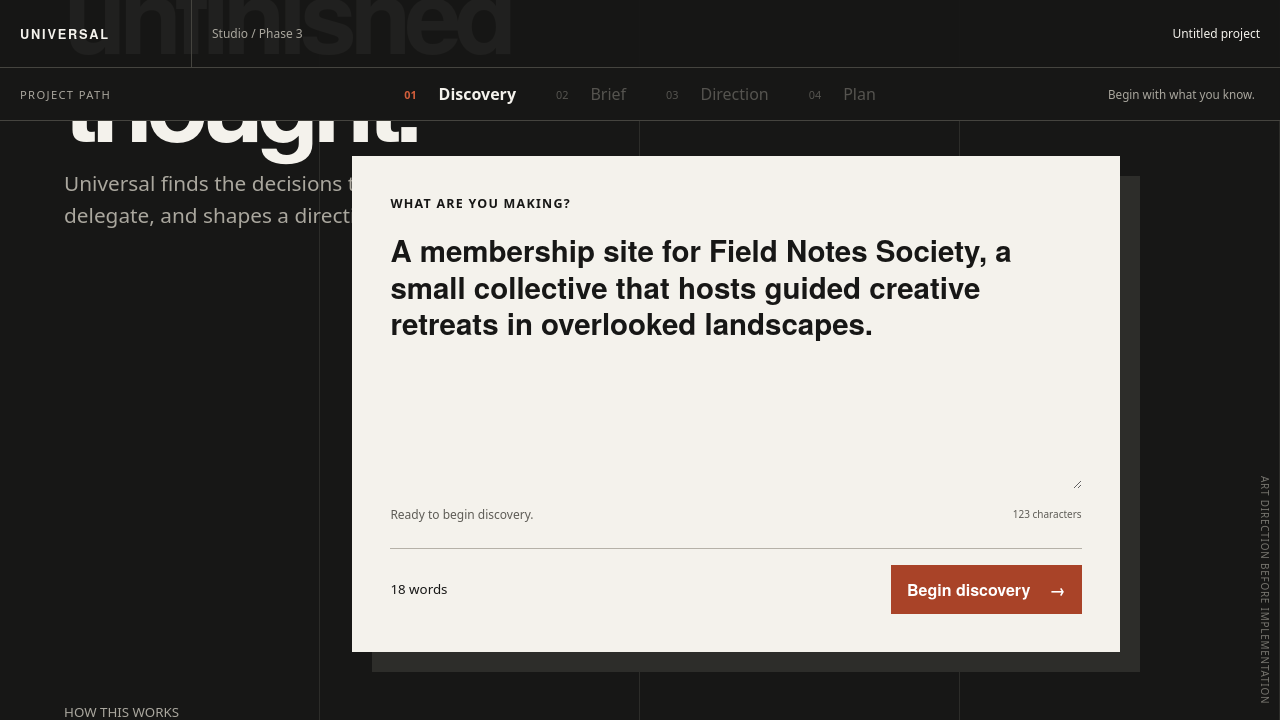
Test: stage 2: discovery answer modes and provenance › the compiled brief displays each decision under its authorship
(page scrolled)
Replace the text in the text box labelled "What are you making?" with "A membership site for a small collective that runs guided creative retreats in overlooked coastal towns.": (736, 361) 390,232 -> 1082,489
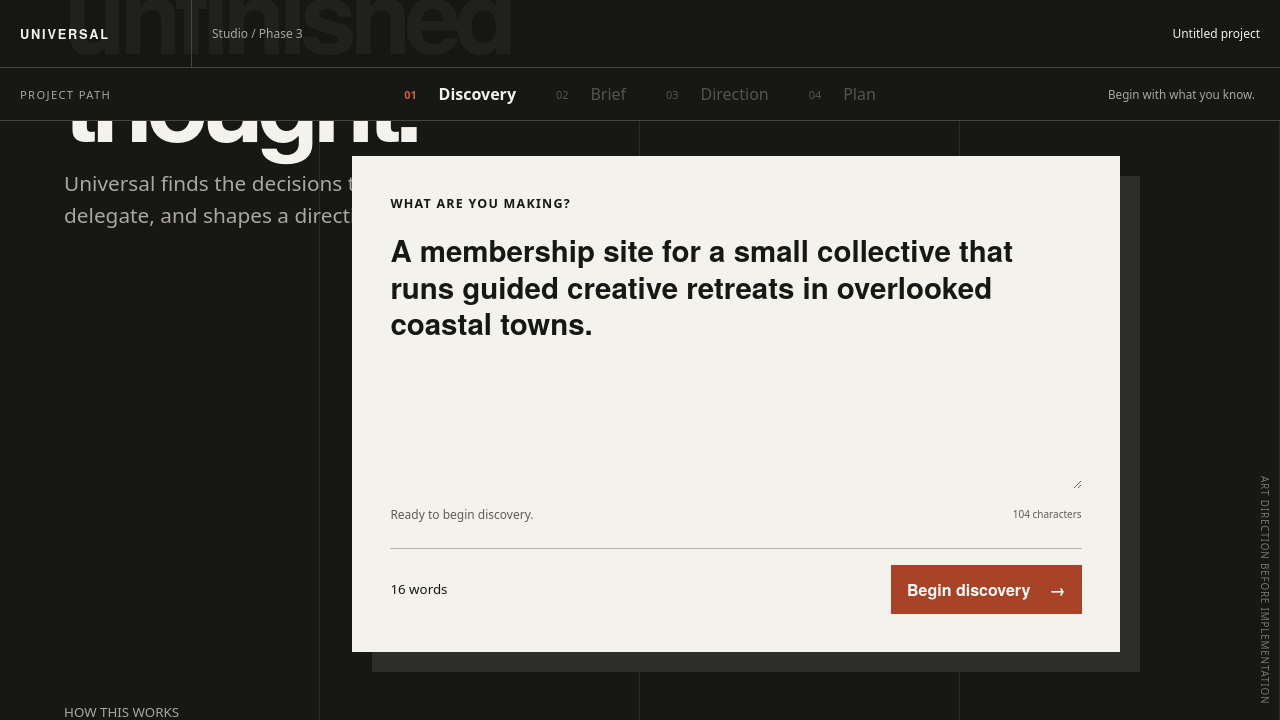
Click the button "Begin discovery →": (986, 589) 891,565 -> 1082,614
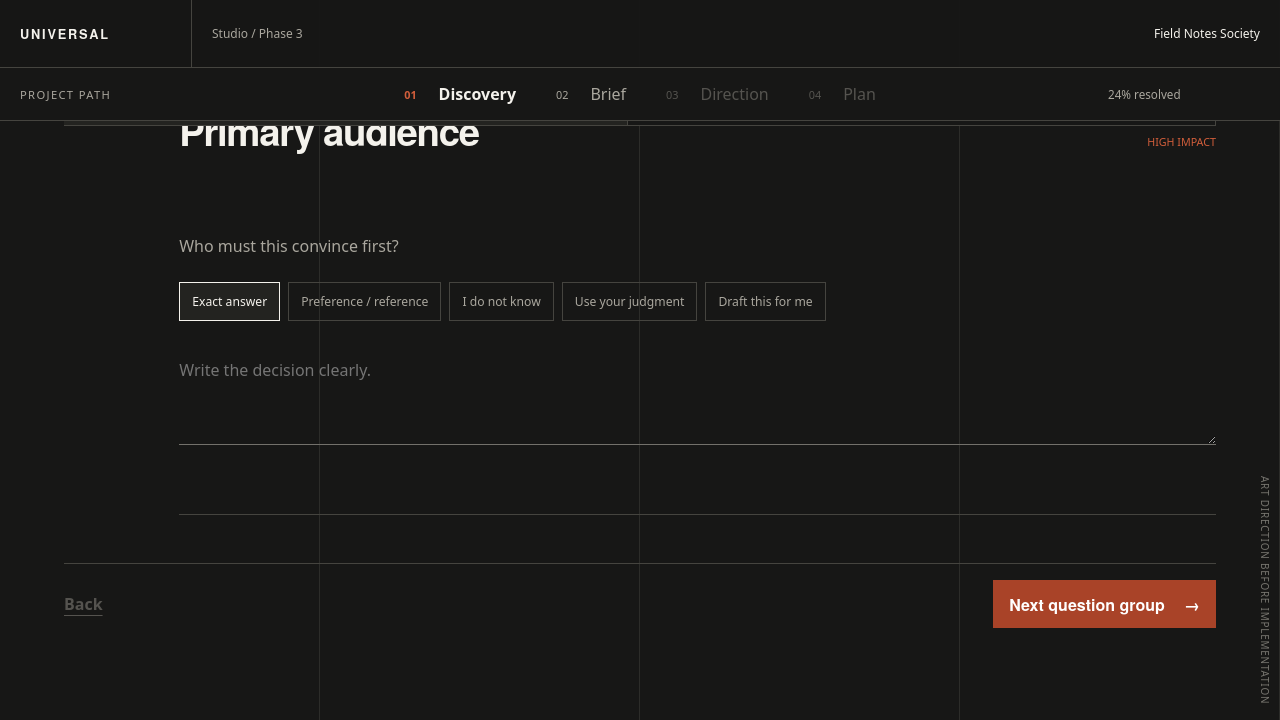
Click the button "Next question group →": (1105, 604) 993,580 -> 1216,628
(page scrolled)
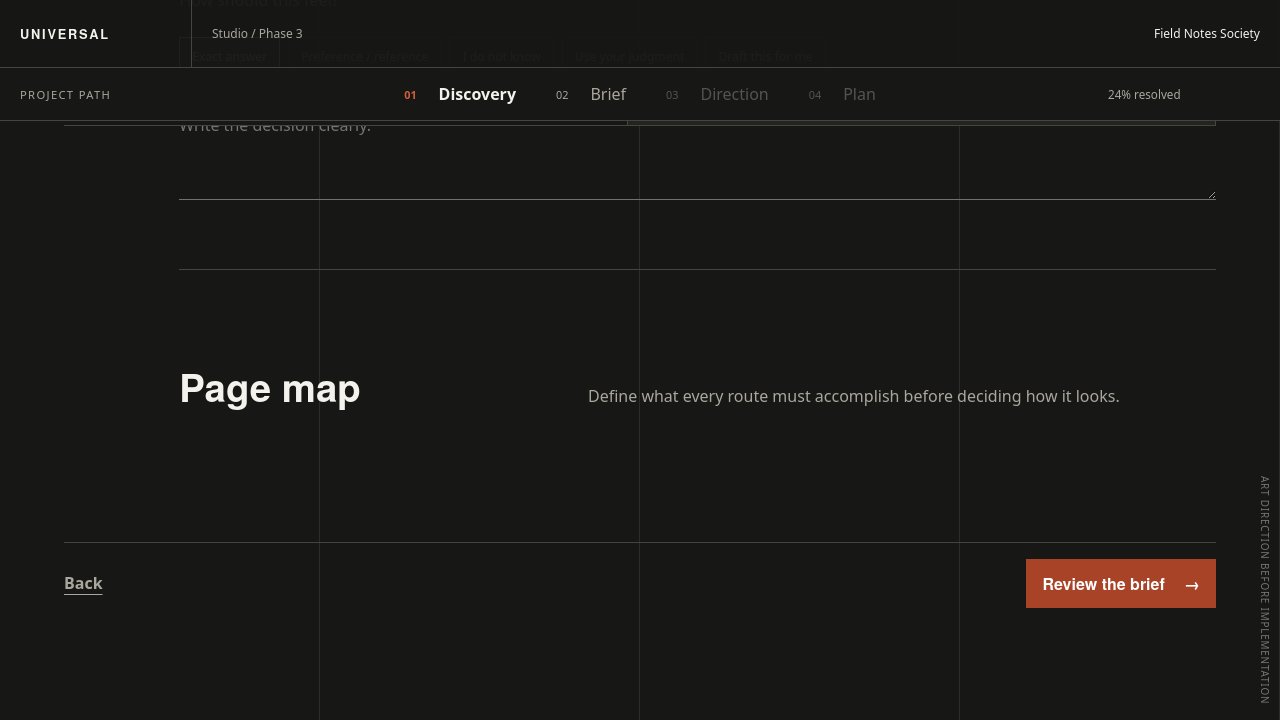
Click the button "Review the brief →": (1121, 583) 1026,559 -> 1216,608
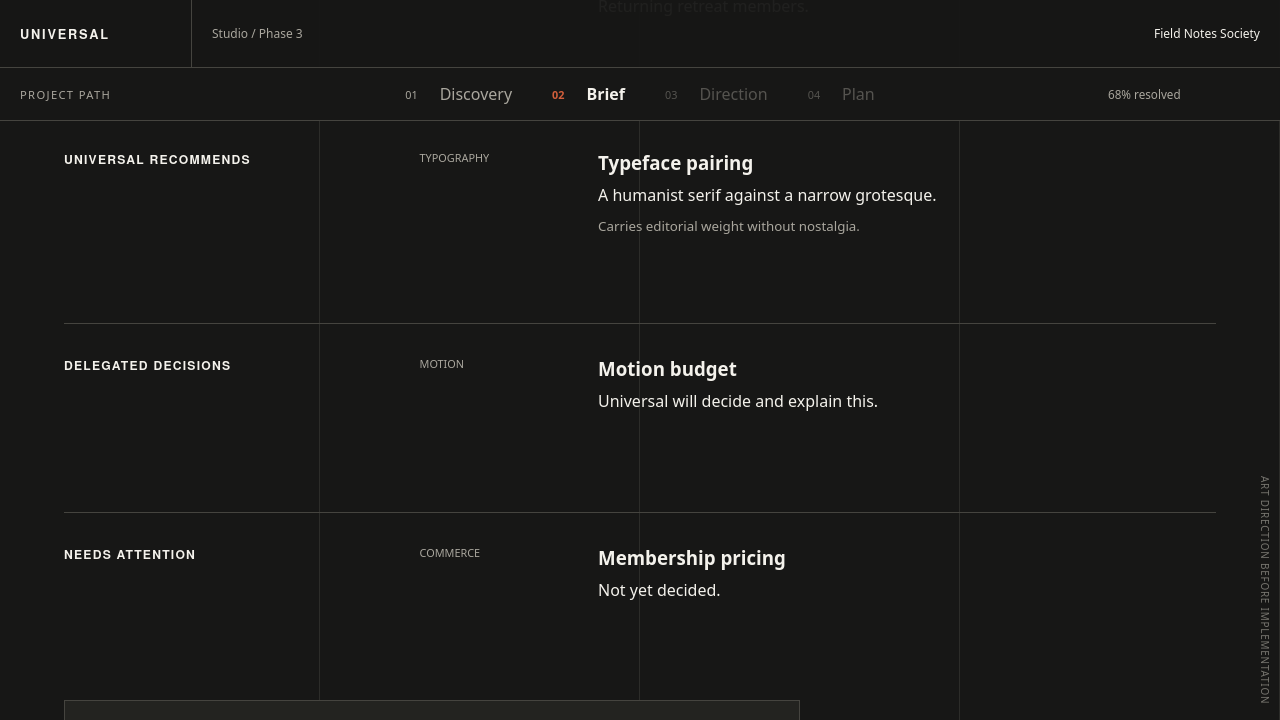
Expected: the heading "Universal recommends" is shown, 64,150 -> 251,168
Expected: the heading "Delegated decisions" is shown, 64,356 -> 231,374
Expected: the heading "Needs attention" is shown, 64,545 -> 196,563
